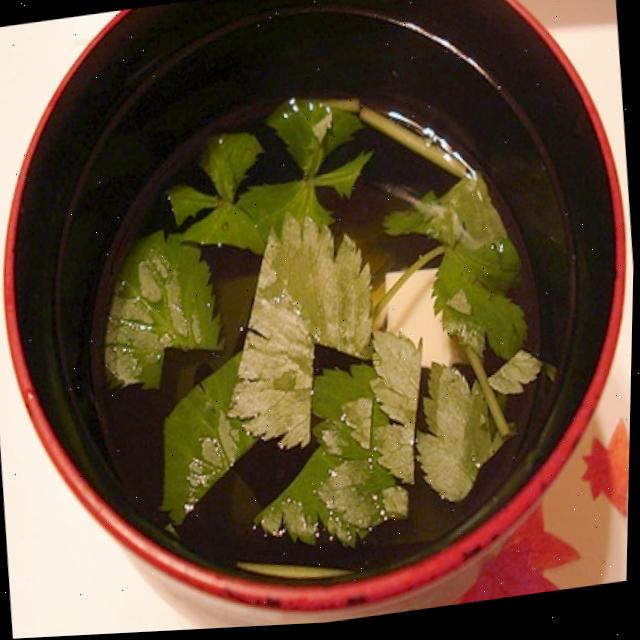汤锅炖物: (52, 0, 618, 613)
